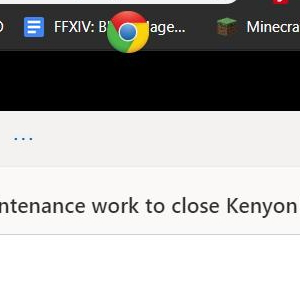chrome: (106, 10, 150, 54)
